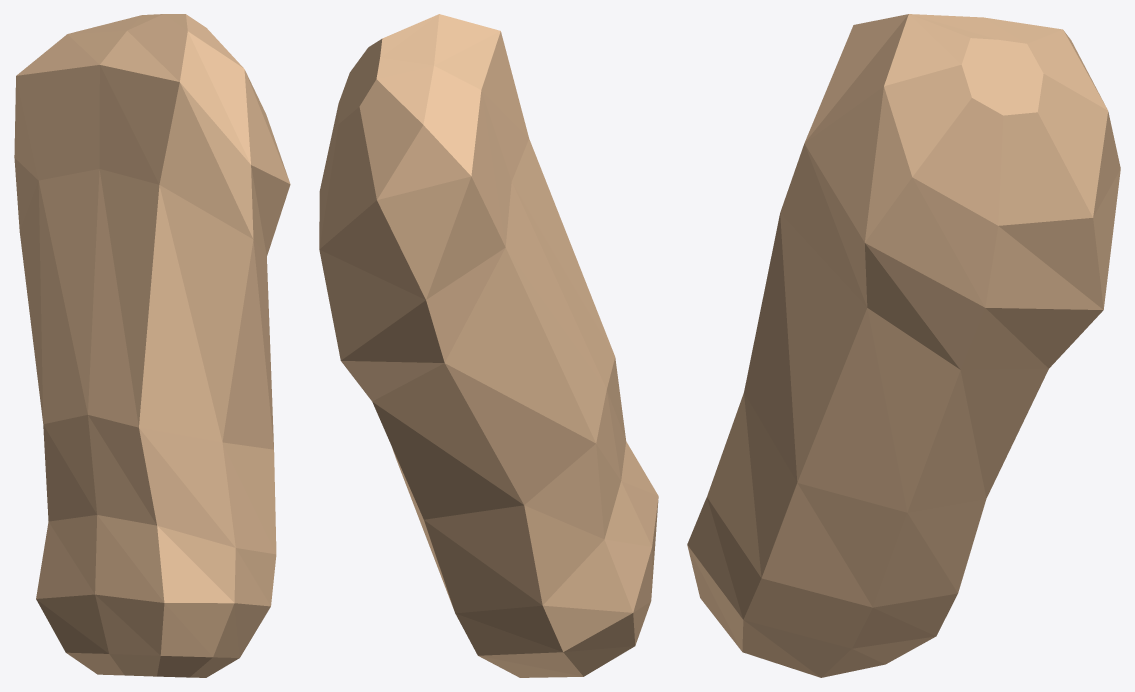
File: RThumb1_mesh.dae
The picture shows the model from 3 angles, left to right: view 1: azimuth 30°, elevation 25°; view 2: azimuth 150°, elevation 25°; view 3: azimuth 270°, elevation 25°; orthographic projection. The views are drawn at different scales.
Visible parts, largest first — view 1: RThumb1; view 2: RThumb1; view 3: RThumb1.
Boxes of the visible parts, x1,y1,x2,y2 form: RThumb1: [14, 14, 290, 677]; RThumb1: [319, 14, 658, 677]; RThumb1: [687, 14, 1120, 677].
Bounding box in the file's own units: 0.0223 × 0.0519 × 0.0295.
